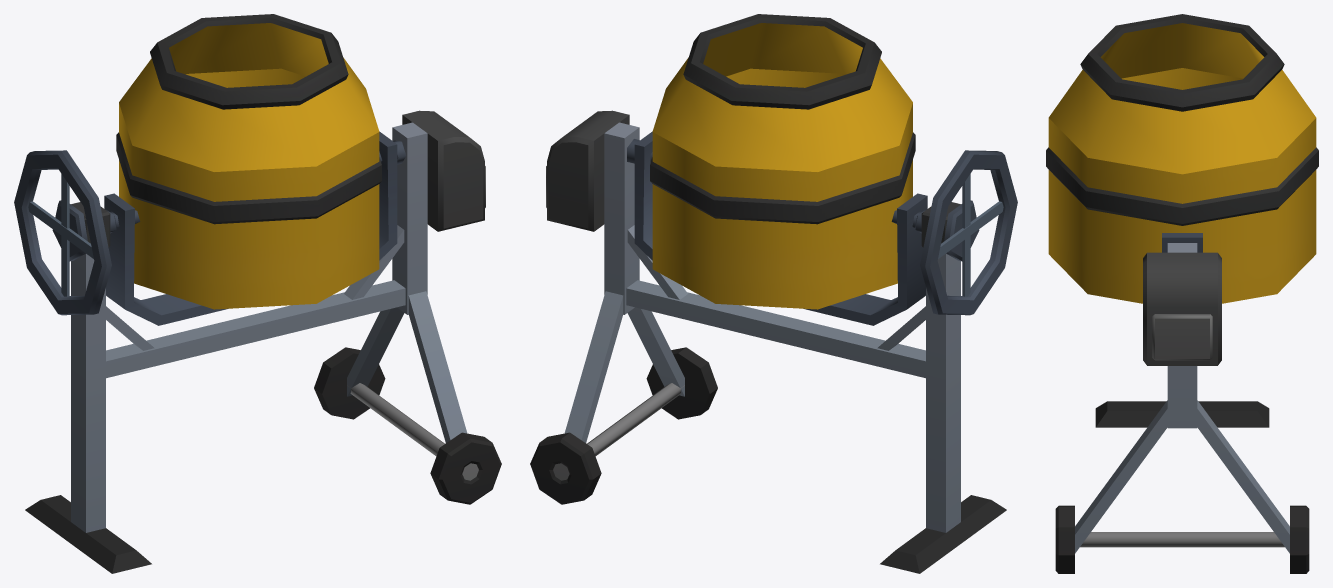
The model's file is CementMixer_B.fbx.
3 views of the same model, side by side, from view 1: azimuth 30°, elevation 25°; view 2: azimuth 150°, elevation 25°; view 3: azimuth 270°, elevation 25° (orthographic).
Visible parts, largest first — view 1: Top2, CementMixer; view 2: Top2, CementMixer; view 3: Top2, CementMixer.
Part boxes in pixels (left/top/right/bottom): Top2: left=14, top=14, right=406, bottom=325; CementMixer: left=25, top=110, right=501, bottom=573; Top2: left=627, top=14, right=1017, bottom=325; CementMixer: left=530, top=110, right=1006, bottom=573; Top2: left=1046, top=14, right=1318, bottom=303; CementMixer: left=1055, top=243, right=1309, bottom=573.
Size of the model in its own units: 1.33 by 1.37 by 0.7673.
